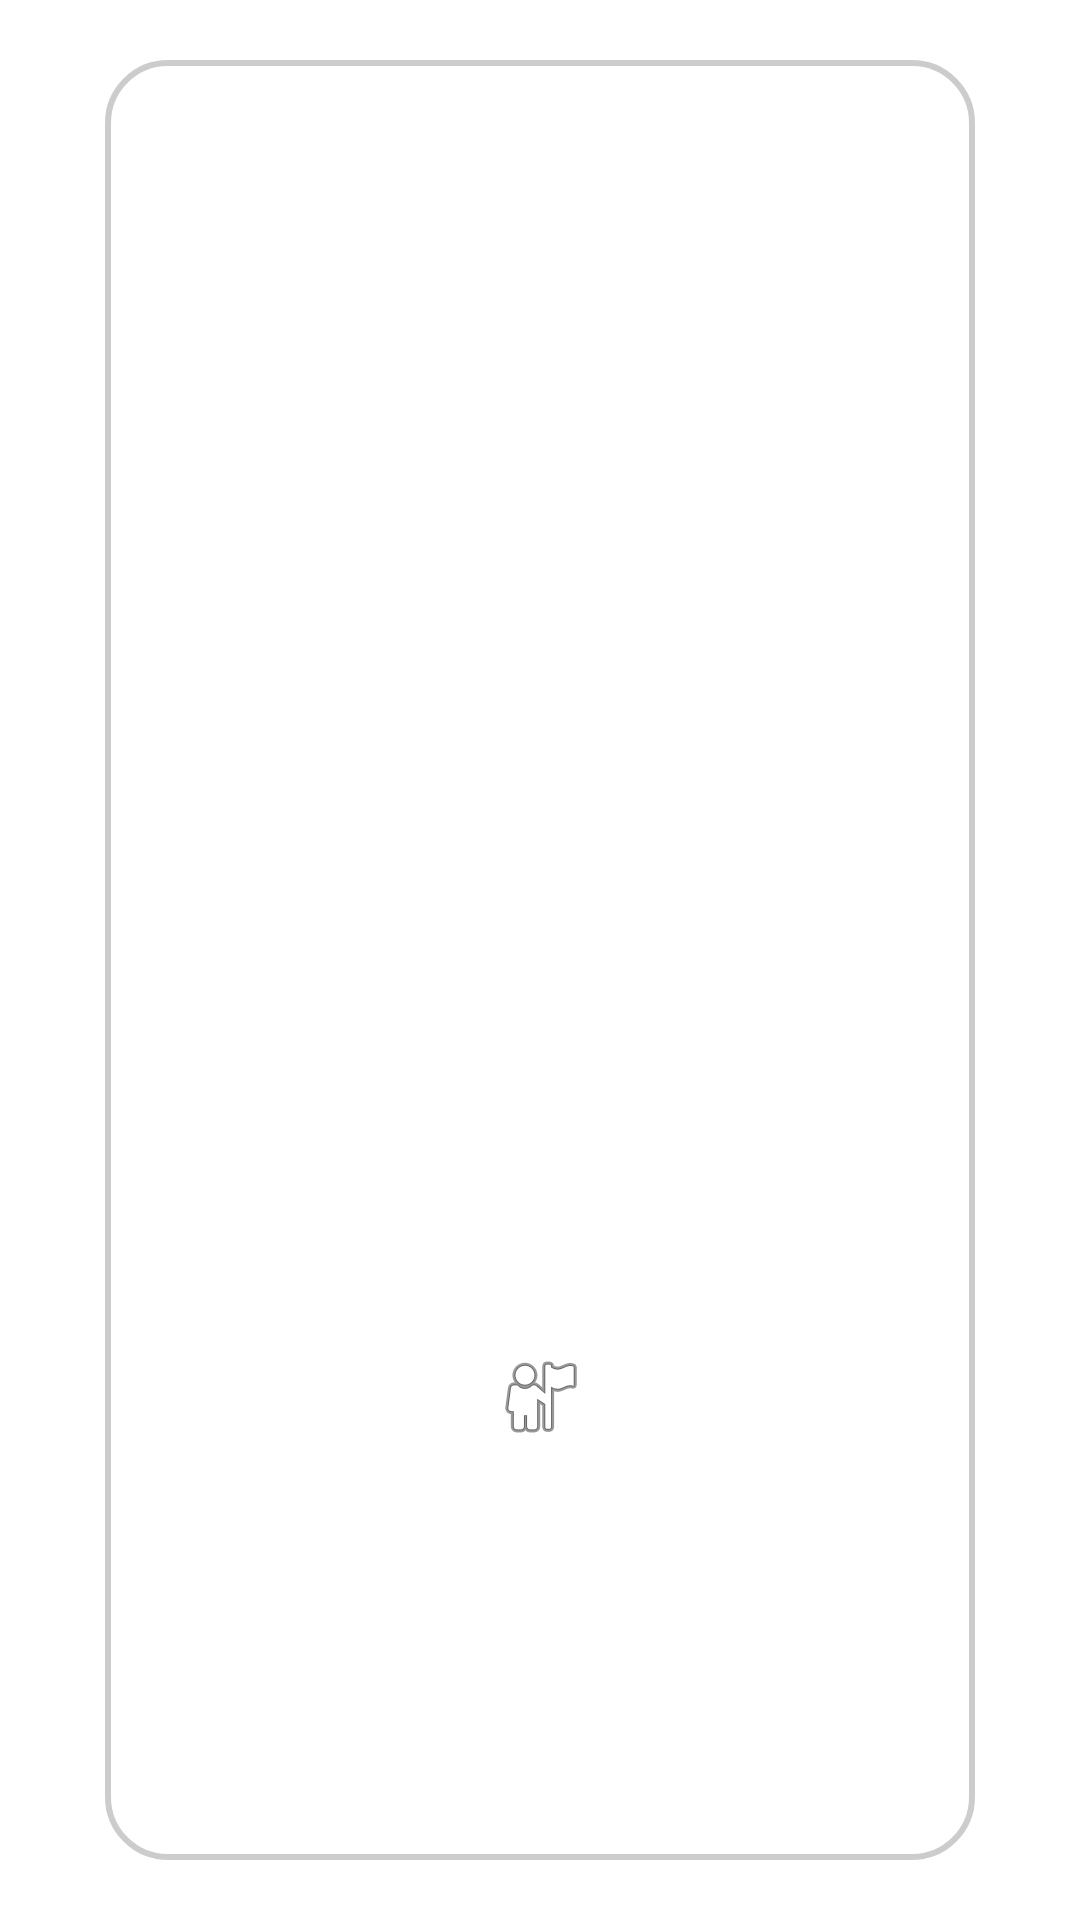

Where icons sit on this 1080x1920 app screen, as (x1, y1, x2, y2):
myplaces: (505, 1361, 577, 1433)
